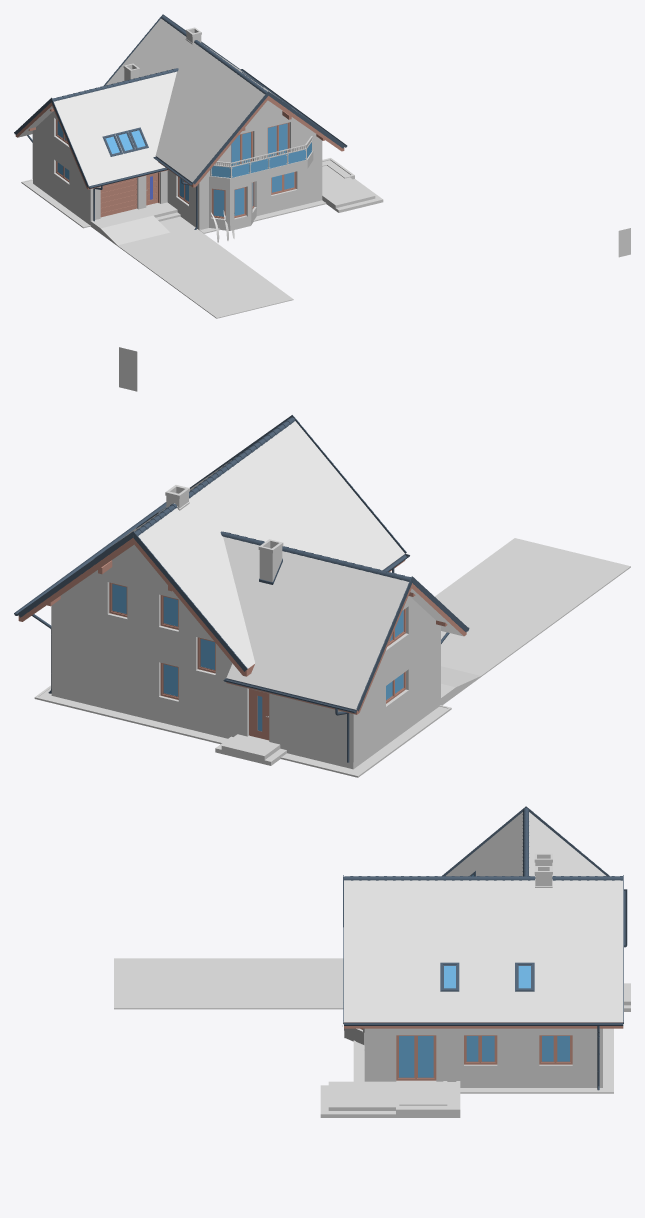
The model's file is 3D_house10.fbx.
The picture shows the model from 3 angles, top to bottom: view 1: azimuth 30°, elevation 25°; view 2: azimuth 150°, elevation 25°; view 3: azimuth 270°, elevation 25°; orthographic projection. The views are drawn at different scales.
Parts seen in each view (by area): view 1: roof, ground_around_house, wall_exterior, roof.001, window.011, terrace, barrels.001, cover_sides.001, door_garage, balcony, cover_roof.001, gutter.001 (+2 smaller); view 2: wall_exterior, roof, roof.001, ground_around_house, window.011, cover_sides.001, cover_roof.001, gutter.001, chimney.002, door_wing.013, camera_man; view 3: roof, ground_around_house, wall_exterior, roof.001, window.011, terrace, cover_roof.001, gutter.001, flower_pot, window_roof, cover_sides.001, chimney.002.
Part boxes in pixels (left/top/right/bottom): roof: left=105, top=18, right=344, bottom=187; ground_around_house: left=21, top=179, right=326, bottom=318; wall_exterior: left=32, top=100, right=322, bottom=230; roof.001: left=15, top=71, right=176, bottom=189; window.011: left=54, top=119, right=297, bottom=220; terrace: left=322, top=165, right=383, bottom=212; barrels.001: left=210, top=136, right=313, bottom=178; cover_sides.001: left=15, top=14, right=344, bottom=187; door_garage: left=100, top=178, right=137, bottom=217; balcony: left=209, top=151, right=313, bottom=187; cover_roof.001: left=52, top=15, right=267, bottom=101; gutter.001: left=14, top=69, right=347, bottom=229; wall_exterior: left=51, top=544, right=440, bottom=769; roof: left=18, top=421, right=405, bottom=676; roof.001: left=223, top=536, right=466, bottom=714; ground_around_house: left=34, top=538, right=630, bottom=777; window.011: left=107, top=582, right=408, bottom=707; cover_sides.001: left=17, top=415, right=467, bottom=711; cover_roof.001: left=134, top=417, right=410, bottom=581; gutter.001: left=14, top=502, right=469, bottom=762; chimney.002: left=165, top=485, right=283, bottom=584; door_wing.013: left=249, top=689, right=269, bottom=740; camera_man: left=119, top=347, right=137, bottom=391; roof: left=344, top=877, right=623, bottom=1028; ground_around_house: left=114, top=958, right=630, bottom=1093; wall_exterior: left=344, top=1028, right=602, bottom=1087; roof.001: left=446, top=812, right=605, bottom=876; window.011: left=354, top=1028, right=572, bottom=1080; terrace: left=320, top=1080, right=443, bottom=1117; cover_roof.001: left=344, top=808, right=622, bottom=880; gutter.001: left=344, top=889, right=627, bottom=1090; flower_pot: left=396, top=1081, right=460, bottom=1117; window_roof: left=440, top=871, right=534, bottom=991; cover_sides.001: left=343, top=806, right=623, bottom=1023; chimney.002: left=534, top=853, right=552, bottom=887.
Size of what is drawn, in the model's own units: 2665 by 954 by 2767.
